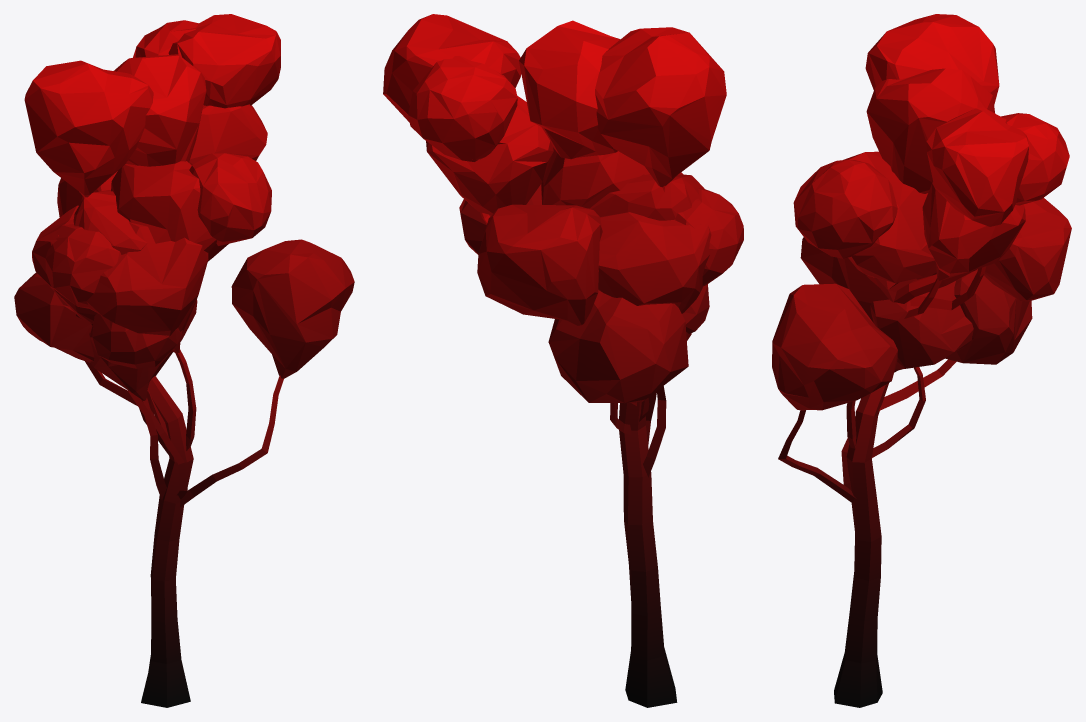
File: TreeEuca03.fbx
3 renders of one model, left to right at view 1: azimuth 30°, elevation 25°; view 2: azimuth 150°, elevation 25°; view 3: azimuth 270°, elevation 25°, orthographic. The views are drawn at different scales.
Visible parts, largest first — view 1: TreeEuca03_LOD0; view 2: TreeEuca03_LOD0; view 3: TreeEuca03_LOD0.
Boxes of the visible parts, x1,y1,x2,y2 form: TreeEuca03_LOD0: (14,14,354,707); TreeEuca03_LOD0: (383,14,743,707); TreeEuca03_LOD0: (772,14,1071,707).
Size of what is drawn, in the model's own units: 296 by 654 by 272.
